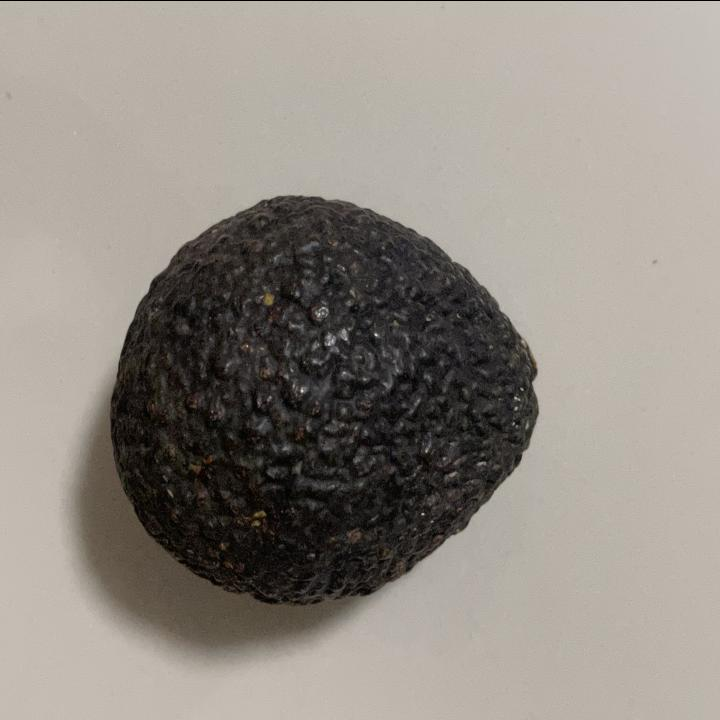Level1: (100, 174, 550, 620)
